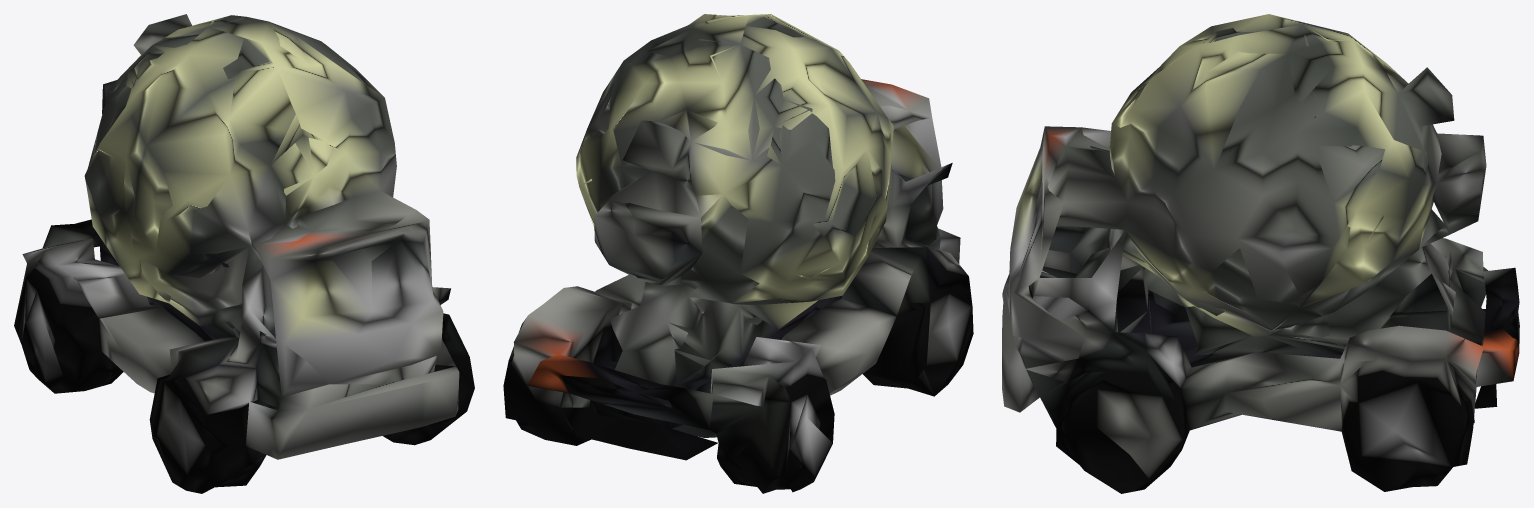
File: gen3d-cement-mixer-lod0.glb
The picture shows the model from 3 angles, left to right: view 1: azimuth 30°, elevation 25°; view 2: azimuth 150°, elevation 25°; view 3: azimuth 270°, elevation 25°; orthographic projection. The views are drawn at different scales.
Visible parts, largest first — view 1: part_0; view 2: part_0; view 3: part_0.
Boxes of the visible parts, bbox=[...] form: part_0: bbox=[14, 14, 474, 493]; part_0: bbox=[503, 14, 973, 493]; part_0: bbox=[1002, 14, 1519, 493].
Bounding box in the file's own units: 0.749 × 0.9876 × 1.17.
